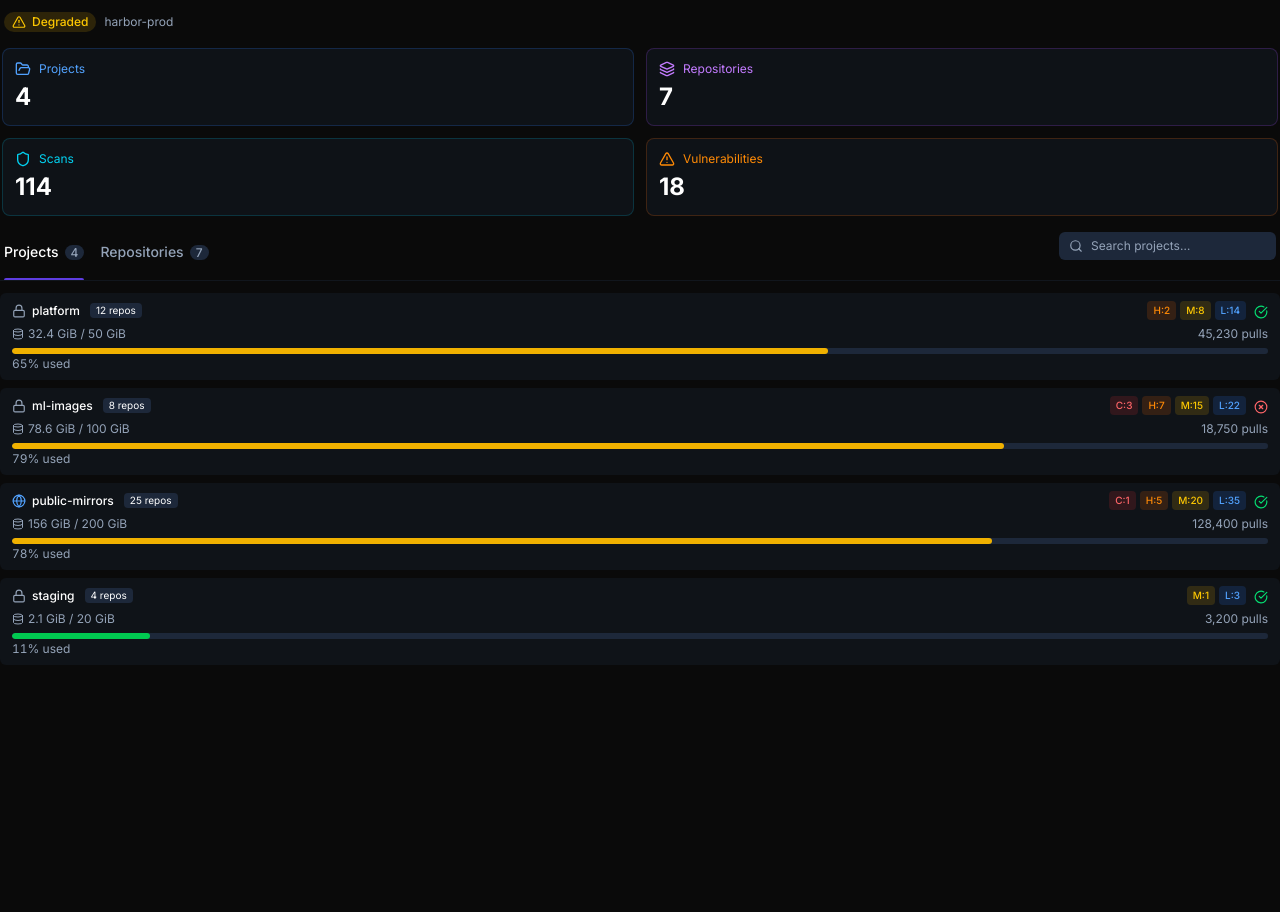
HarborStatus › switches to Repositories tab on click
The image size is (1280, 912).
Click the button "Repositories7".
click(154, 256)  # box x1=100 y1=232 x2=208 y2=280
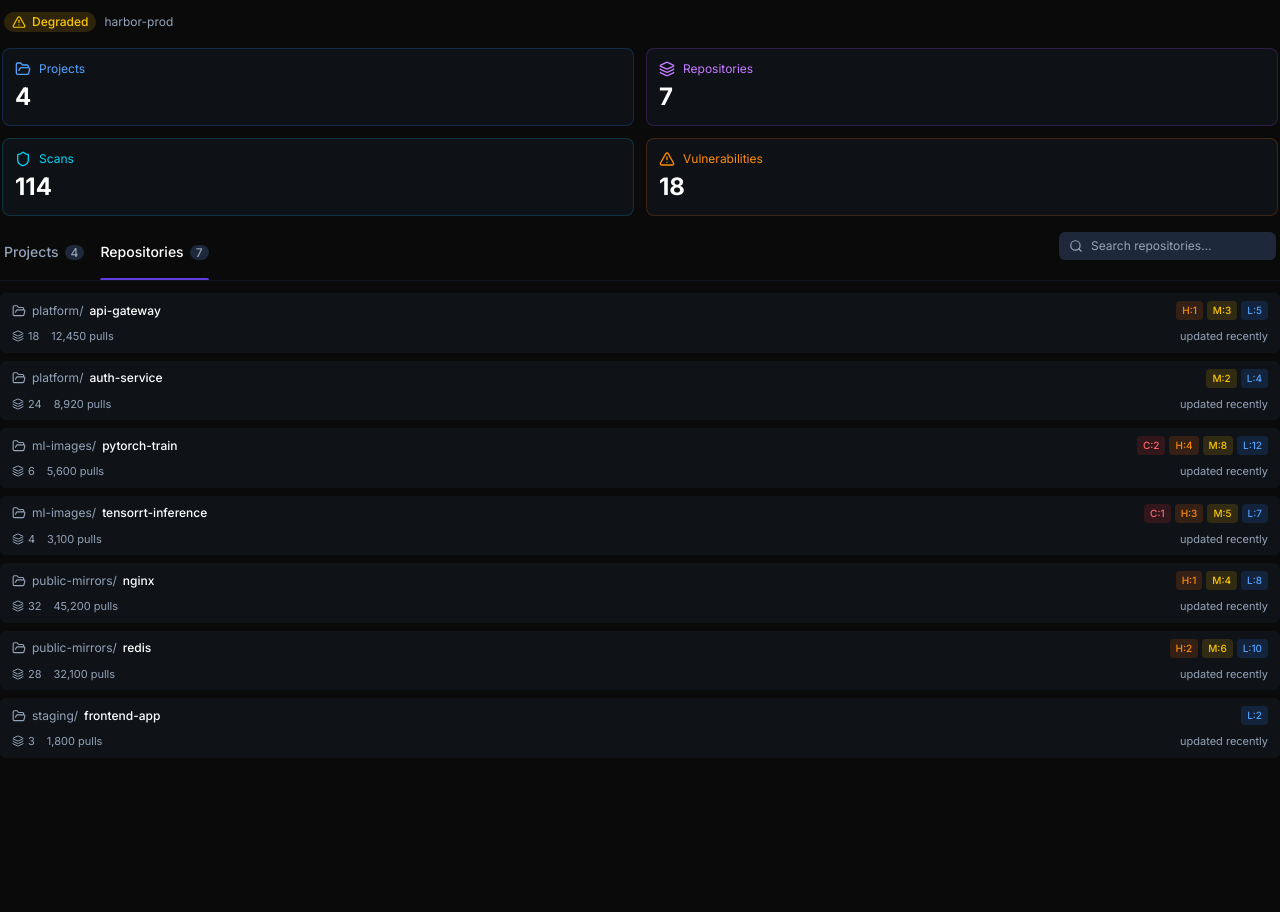
expect the text "api-gateway" is shown: met, box x1=90 y1=302 x2=161 y2=318
